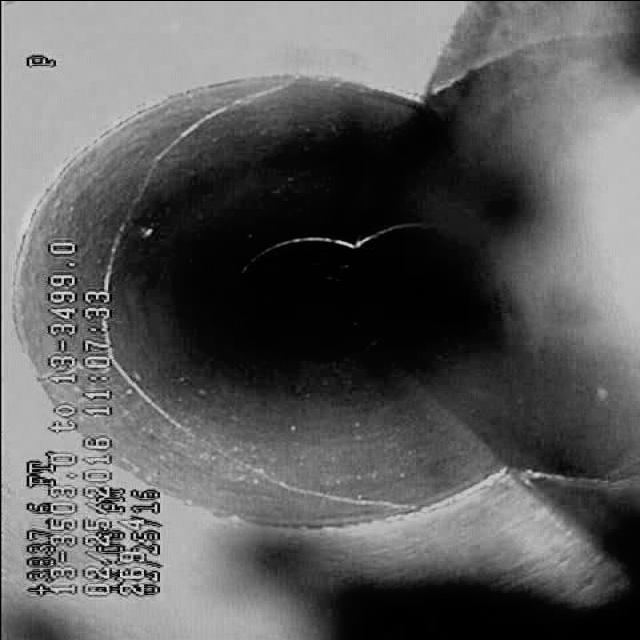Crack: (160, 424, 393, 513), (118, 82, 274, 186)
